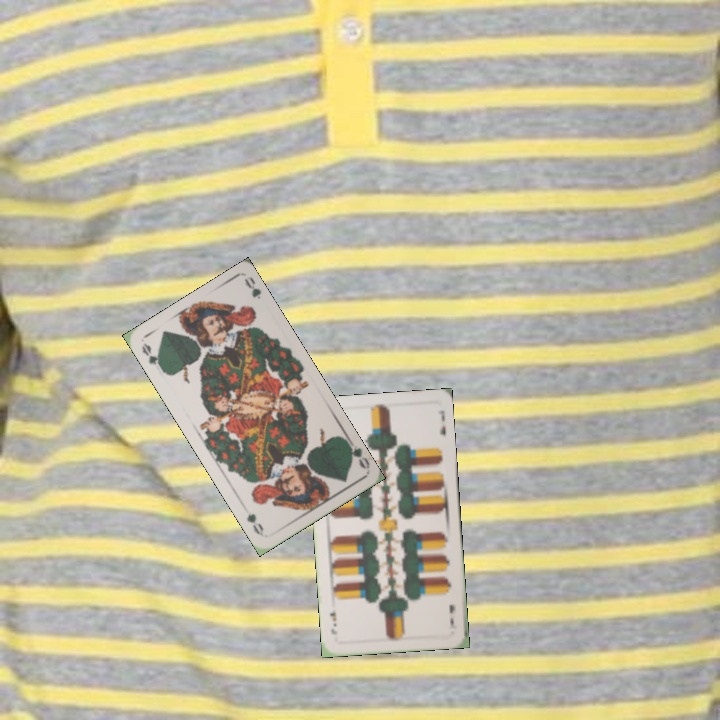E7: (444, 600, 459, 632)
GO: (342, 434, 372, 472), (137, 339, 166, 375)
